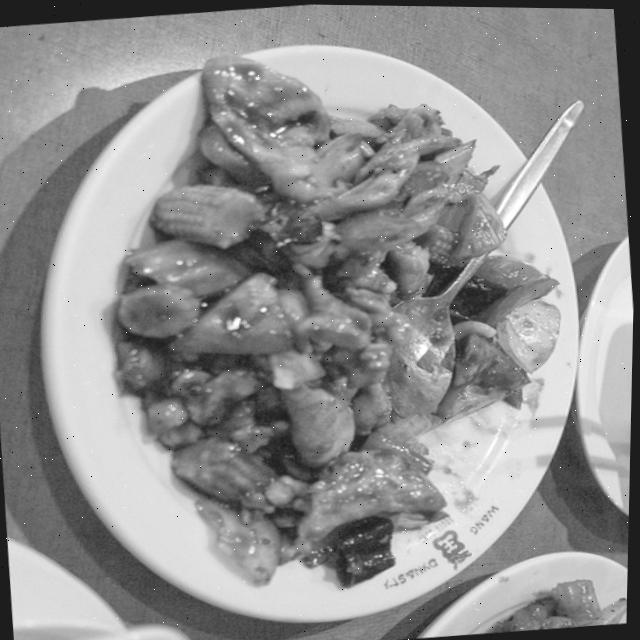鸡肉料理 含炸鸡: (55, 19, 618, 627)
